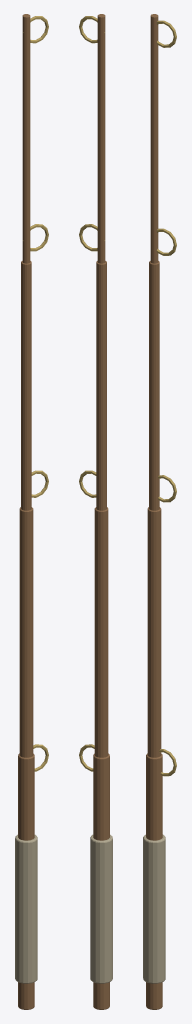
The model's file is fishing_rod.glb.
3 renders of one model, left to right at view 1: azimuth 30°, elevation 25°; view 2: azimuth 150°, elevation 25°; view 3: azimuth 330°, elevation 25°, orthographic.
Visible parts, largest first — view 1: Tapered ash section.001, Cord grip, Tapered ash section.002, Tapered ash section.003, Tapered ash section, Torus.002, Torus.003, Torus.001, Torus; view 2: Tapered ash section.001, Cord grip, Tapered ash section.002, Tapered ash section.003, Tapered ash section, Torus.002, Torus.003, Torus.001, Torus; view 3: Tapered ash section.001, Cord grip, Tapered ash section.002, Tapered ash section.003, Tapered ash section, Torus.003, Torus.002, Torus.001, Torus.
Part boxes in pixels (x1,y1,x2,y2): Tapered ash section.001: (19, 507, 33, 757); Cord grip: (15, 834, 37, 983); Tapered ash section.002: (21, 261, 31, 510); Tapered ash section.003: (22, 14, 30, 263); Tapered ash section: (18, 753, 34, 1009); Torus.002: (22, 224, 48, 251); Torus.003: (22, 16, 48, 43); Torus.001: (31, 470, 48, 497); Torus: (33, 744, 48, 771); Tapered ash section.001: (94, 507, 108, 757); Cord grip: (90, 834, 112, 983); Tapered ash section.002: (96, 261, 106, 510); Tapered ash section.003: (97, 14, 105, 263); Tapered ash section: (93, 753, 109, 1009); Torus.002: (79, 224, 105, 251); Torus.003: (79, 16, 105, 43); Torus.001: (79, 470, 96, 497); Torus: (79, 744, 94, 771); Tapered ash section.001: (147, 507, 161, 757); Cord grip: (143, 834, 165, 983); Tapered ash section.002: (149, 261, 159, 510); Tapered ash section.003: (150, 14, 158, 263); Tapered ash section: (146, 753, 162, 1009); Torus.003: (156, 20, 176, 47); Torus.002: (156, 228, 176, 255); Torus.001: (158, 475, 176, 502); Torus: (159, 749, 176, 776).
Size of the model in its own units: 0.062 by 1.81 by 0.038.
